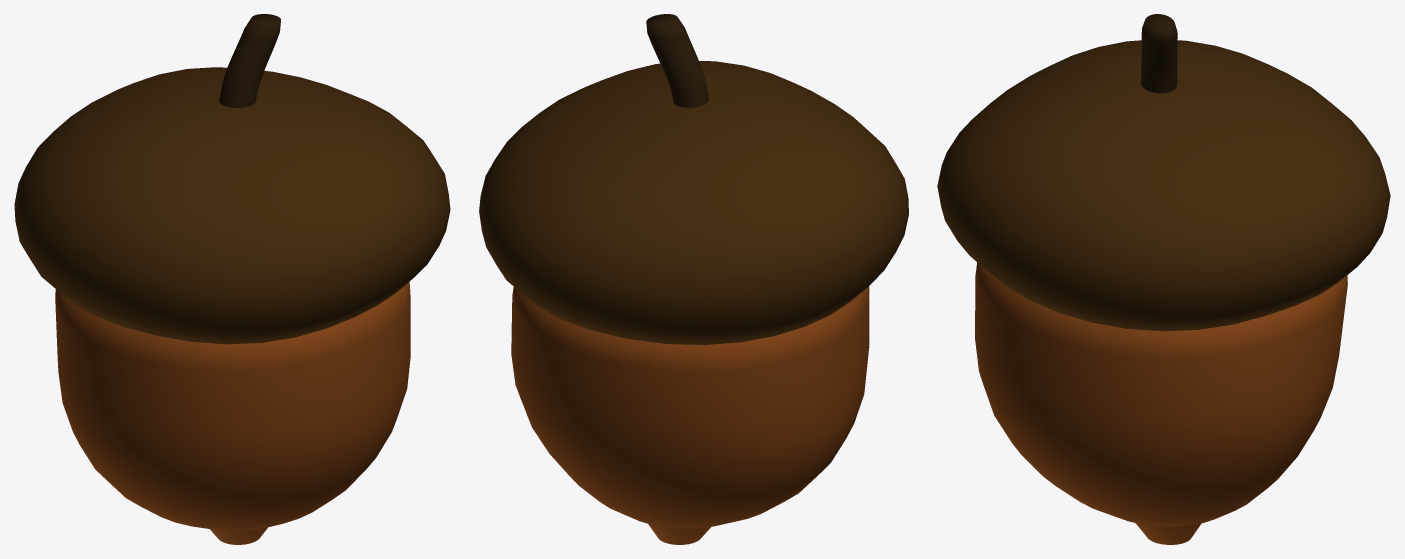
Rendered from acorn.fbx.
3 views of the same model, side by side, from view 1: azimuth 30°, elevation 25°; view 2: azimuth 150°, elevation 25°; view 3: azimuth 270°, elevation 25° (orthographic). The views are drawn at different scales.
Visible parts, largest first — view 1: Acorn; view 2: Acorn; view 3: Acorn.
Boxes of the visible parts, box(x1,y1,x2,y2) form: Acorn: box(14, 14, 450, 544); Acorn: box(479, 14, 908, 544); Acorn: box(937, 14, 1390, 544).
Size of the model in its own units: 247 by 320 by 249.
